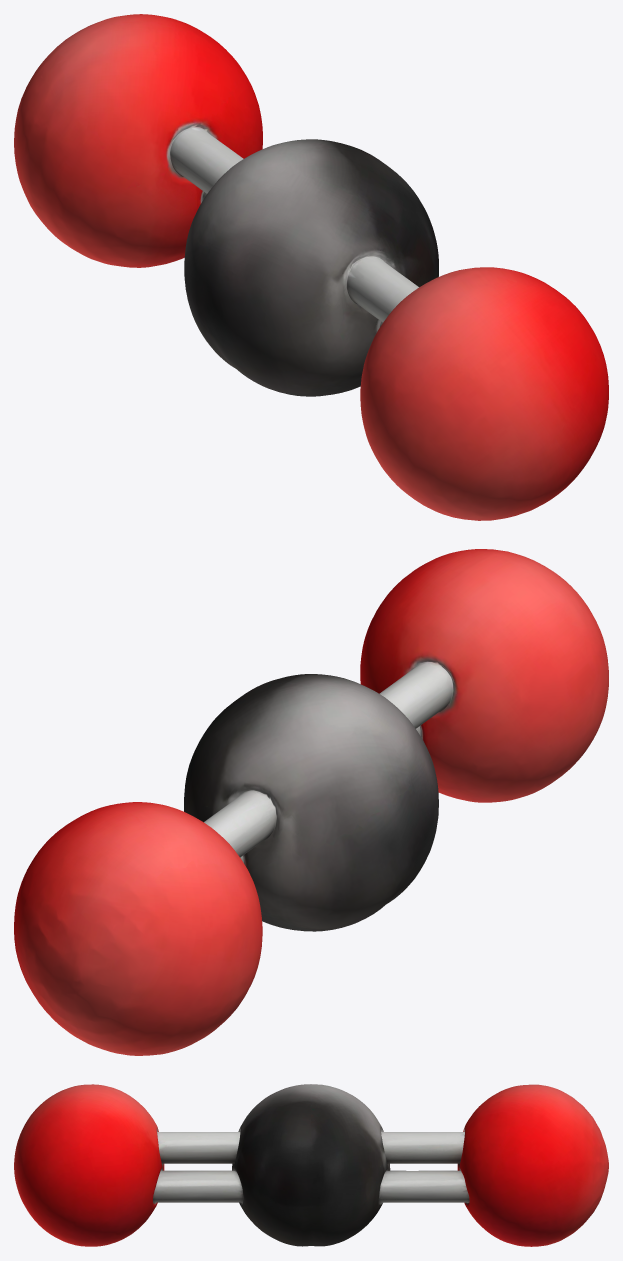
Rendered from co2-molecule.glb.
3 views of the same model, one above another, from view 1: azimuth 30°, elevation 25°; view 2: azimuth 150°, elevation 25°; view 3: azimuth 270°, elevation 25° (orthographic). The views are drawn at different scales.
Parts seen in each view (by area): view 1: co2-molecule; view 2: co2-molecule; view 3: co2-molecule.
Boxes of the visible parts, x1,y1,x2,y2 form: co2-molecule: [14, 14, 608, 520]; co2-molecule: [14, 549, 608, 1055]; co2-molecule: [14, 1084, 608, 1246].
Bounding box in the file's own units: 0.0431 × 0.0439 × 0.16.
Materials: 1 (1 with a texture image).
